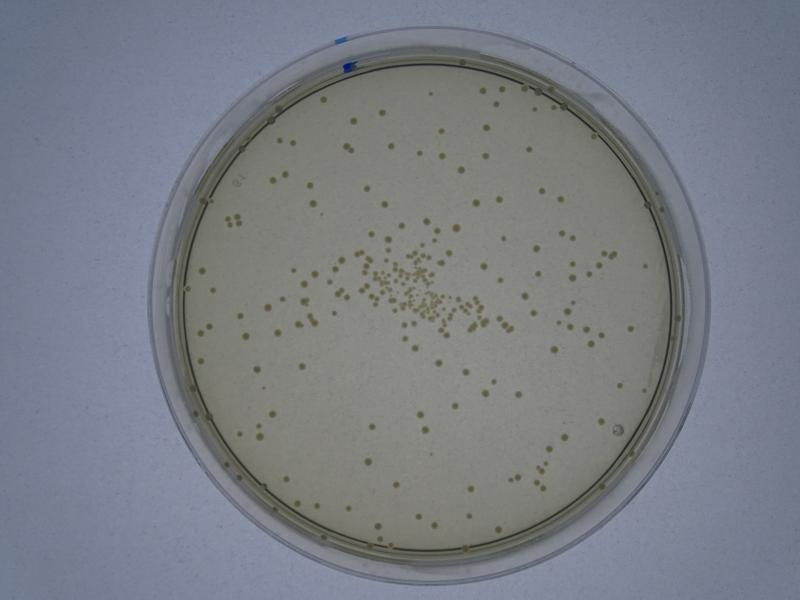colony: (365, 420, 383, 433), (382, 139, 398, 152), (296, 360, 308, 376), (456, 165, 469, 179), (512, 387, 525, 400), (547, 343, 561, 355), (362, 456, 374, 469), (466, 483, 478, 496), (419, 214, 432, 226), (348, 115, 360, 128), (525, 143, 537, 155), (376, 106, 388, 118), (380, 199, 393, 210), (434, 357, 445, 370), (560, 430, 571, 443), (449, 400, 459, 414), (479, 259, 490, 271), (266, 408, 277, 420), (251, 364, 264, 374), (390, 480, 403, 490), (451, 222, 463, 232), (533, 242, 542, 255), (307, 200, 318, 209), (362, 184, 372, 193), (366, 229, 376, 238), (472, 198, 481, 208), (459, 367, 469, 376), (273, 328, 281, 339), (241, 334, 252, 342), (499, 234, 508, 243), (417, 409, 425, 419), (495, 195, 504, 203), (413, 344, 420, 353)
